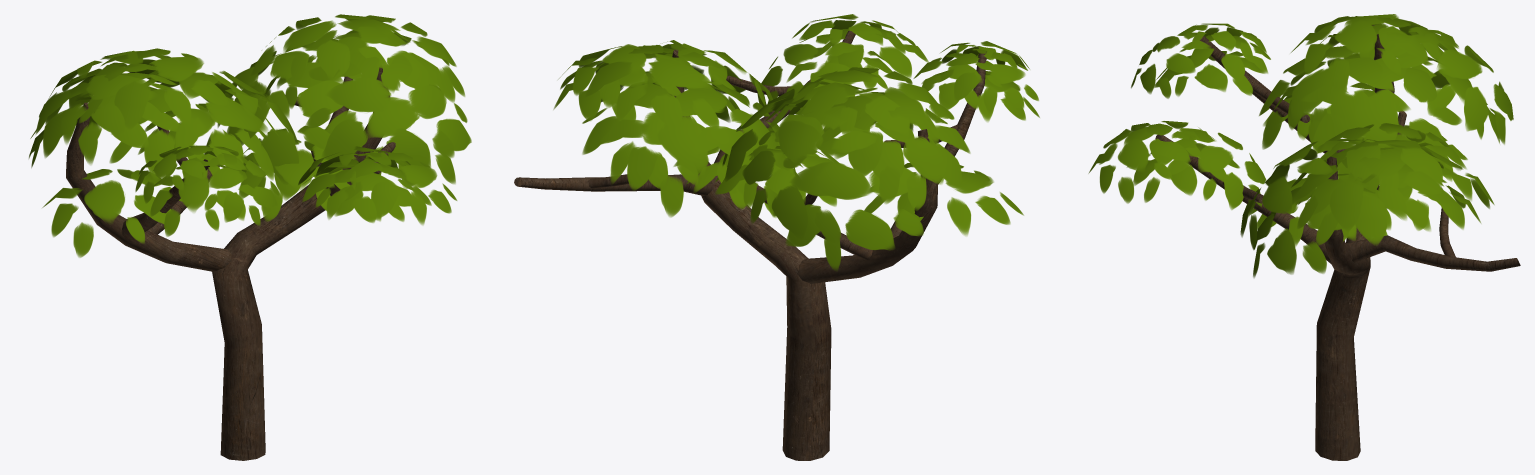
3 renders of one model, left to right at view 1: azimuth 30°, elevation 25°; view 2: azimuth 150°, elevation 25°; view 3: azimuth 270°, elevation 25°, orthographic. The views are drawn at different scales.
Visible parts, largest first — view 1: Tree_4; view 2: Tree_4; view 3: Tree_4.
Part boxes in pixels (left/top/right/bottom): Tree_4: left=29, top=14, right=471, bottom=460; Tree_4: left=514, top=14, right=1039, bottom=460; Tree_4: left=1088, top=14, right=1520, bottom=460.
Size of the model in its own units: 6.27 by 5.33 by 5.46.
2 materials, 2 textured.
